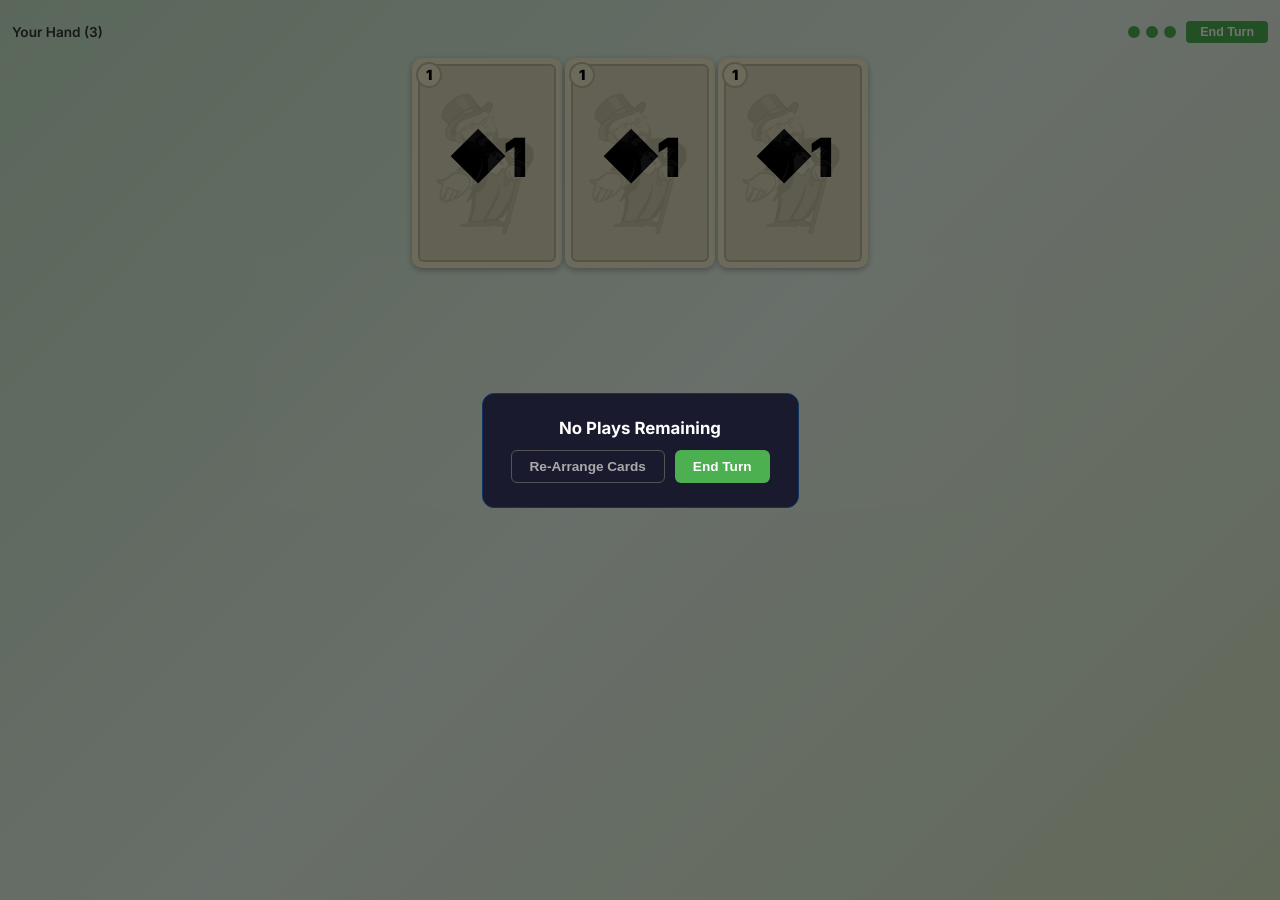
Hand › Re-Arrange Cards button dismisses no-plays popup
Click the button "Re-Arrange Cards" at (588, 466), box 510,450 -> 665,482
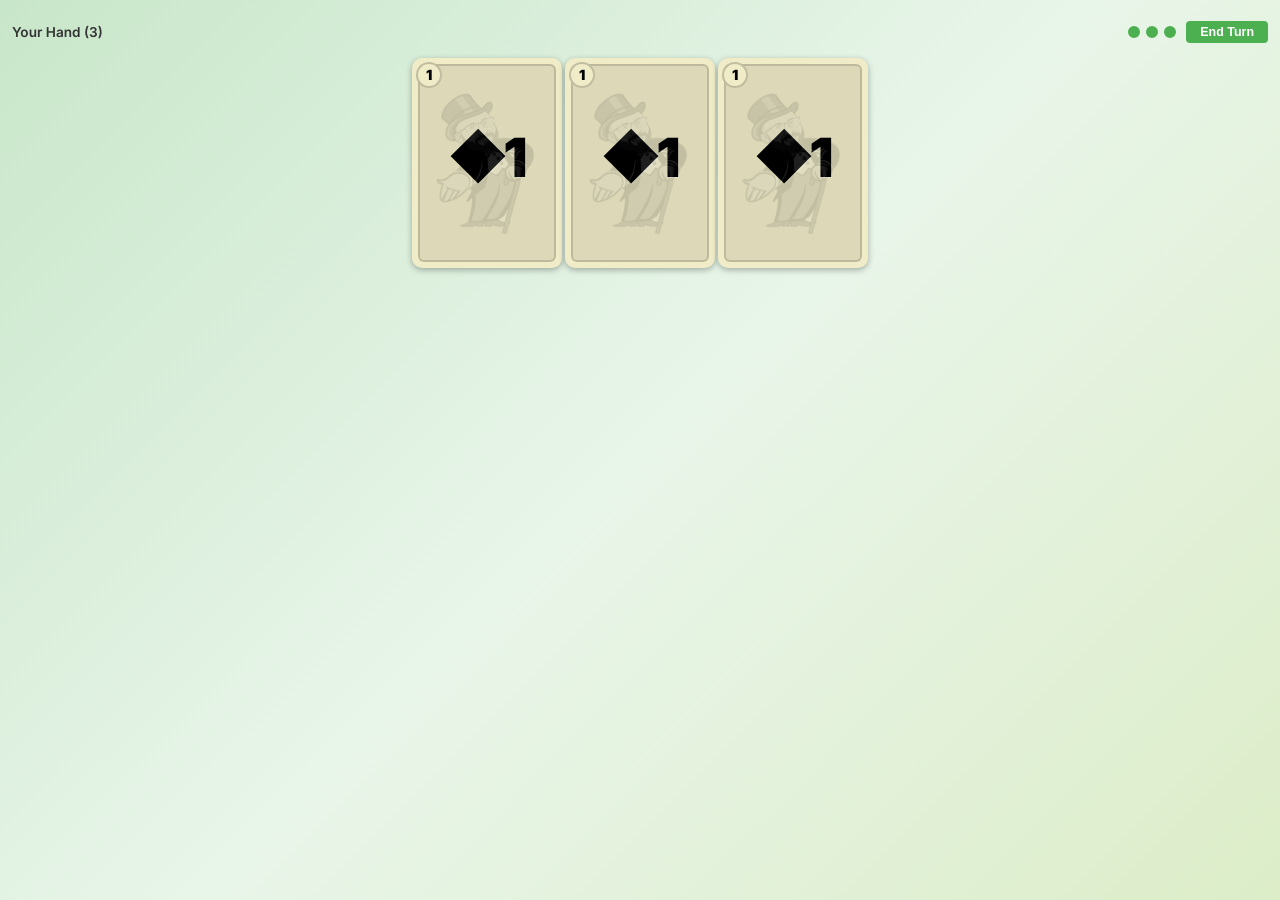
Expected: the heading "No Plays Remaining" is gone
